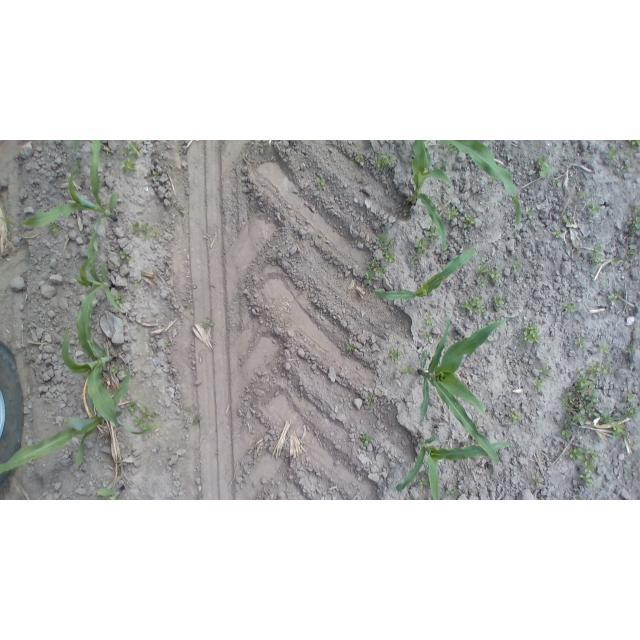Maize: (1, 357, 132, 474), (417, 310, 513, 465), (0, 141, 120, 230), (62, 285, 125, 428), (438, 141, 523, 240), (396, 434, 513, 498), (374, 247, 477, 302), (406, 141, 453, 252), (74, 232, 127, 314)
Weeds: (559, 362, 639, 438), (367, 230, 396, 289), (567, 446, 598, 487), (128, 400, 163, 432), (475, 262, 502, 287), (129, 221, 156, 239), (521, 322, 540, 347), (463, 298, 488, 314), (412, 239, 428, 263), (592, 245, 607, 267), (538, 155, 552, 177), (122, 159, 137, 173), (532, 472, 545, 488), (390, 348, 402, 365), (201, 318, 216, 331), (126, 142, 138, 158), (361, 431, 370, 451), (512, 411, 523, 427), (598, 344, 611, 357), (540, 365, 552, 379), (399, 365, 414, 376), (459, 215, 473, 226), (608, 148, 619, 162), (378, 155, 392, 166), (445, 489, 460, 499), (492, 296, 504, 308), (48, 223, 59, 236), (426, 229, 437, 242), (446, 207, 458, 218), (183, 302, 197, 311), (589, 202, 598, 216), (532, 379, 543, 390), (575, 337, 586, 348), (635, 205, 640, 229), (416, 478, 429, 487), (112, 295, 123, 305), (625, 141, 640, 148), (625, 347, 635, 357), (444, 144, 456, 152), (566, 305, 579, 312), (193, 418, 203, 427), (513, 261, 522, 271), (112, 365, 120, 375), (577, 191, 587, 199), (553, 231, 564, 238), (606, 294, 618, 300), (347, 342, 353, 353), (612, 262, 621, 269), (121, 251, 128, 260), (426, 316, 433, 325), (426, 333, 433, 342), (315, 178, 325, 184), (527, 208, 533, 217), (565, 216, 571, 225), (366, 397, 373, 404), (166, 340, 172, 348), (151, 169, 157, 176), (355, 155, 361, 162), (184, 407, 190, 413), (195, 496, 203, 500), (134, 282, 139, 287)
